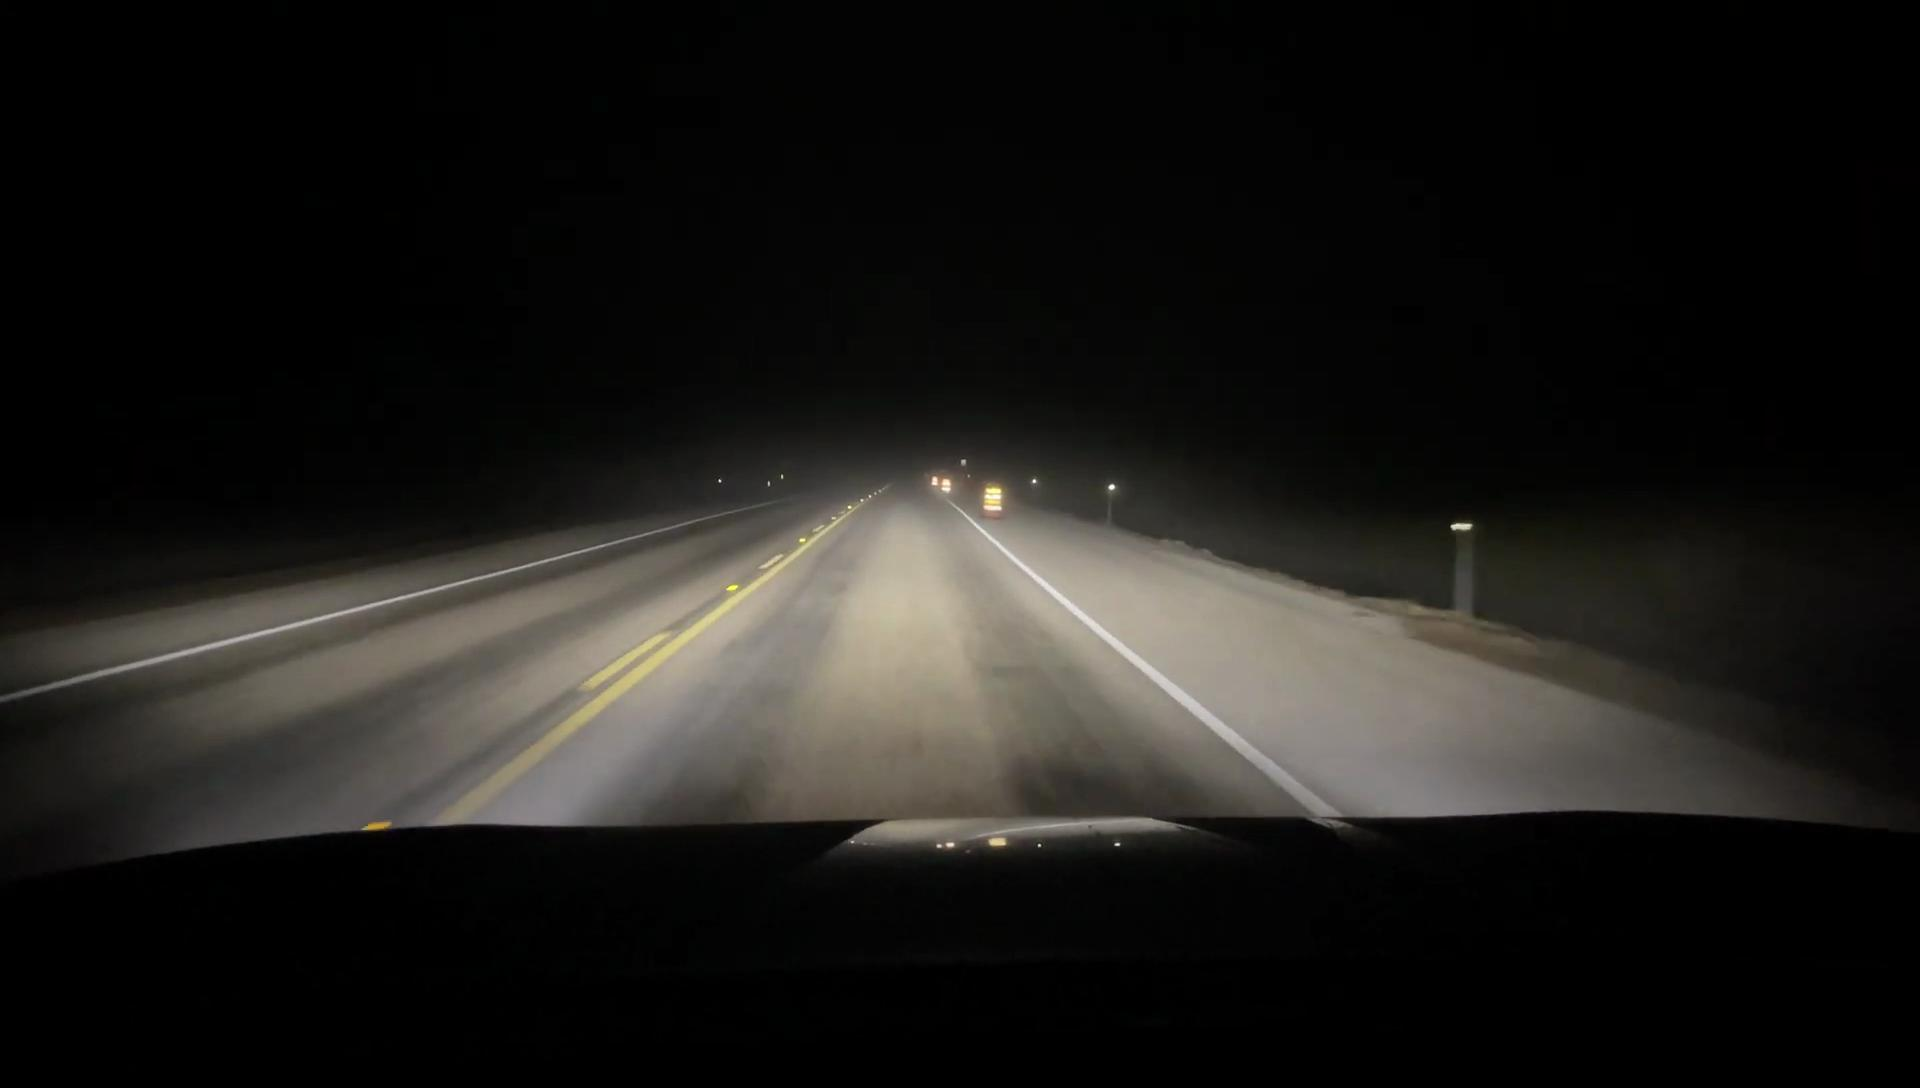road-lanes: (483, 481, 1287, 811)
